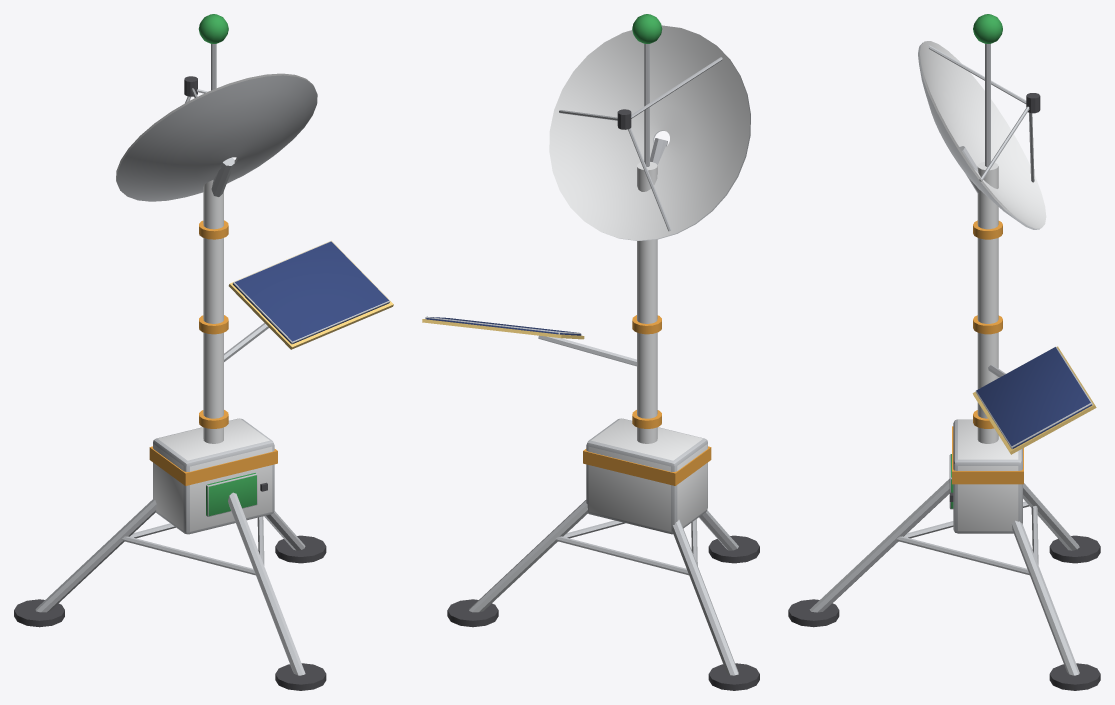
Rendered from Relay.fbx.
The picture shows the model from 3 angles, left to right: view 1: azimuth 30°, elevation 25°; view 2: azimuth 150°, elevation 25°; view 3: azimuth 270°, elevation 25°; orthographic projection.
Visible parts, largest first — view 1: Relay; view 2: Relay; view 3: Relay.
Boxes of the visible parts, box(x1,y1,x2,y2) form: Relay: box(14, 14, 393, 690); Relay: box(422, 14, 759, 690); Relay: box(788, 14, 1100, 690).
Size of the model in its own units: 3.42 by 5.71 by 2.69.
